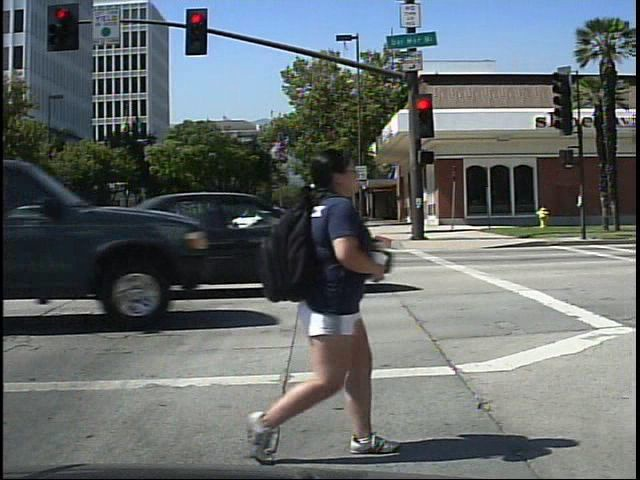person: (255, 131, 389, 464)
